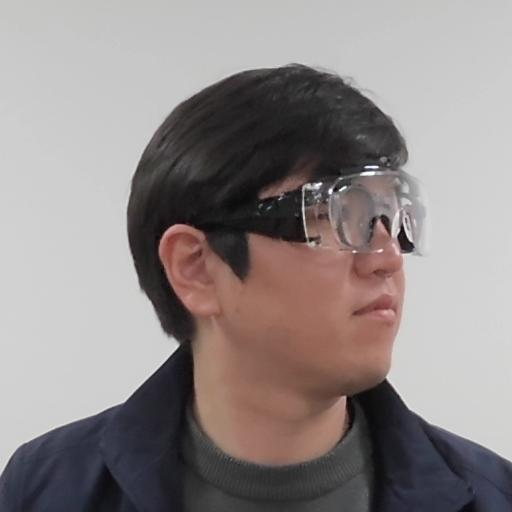glasses: (107, 56, 437, 417)
